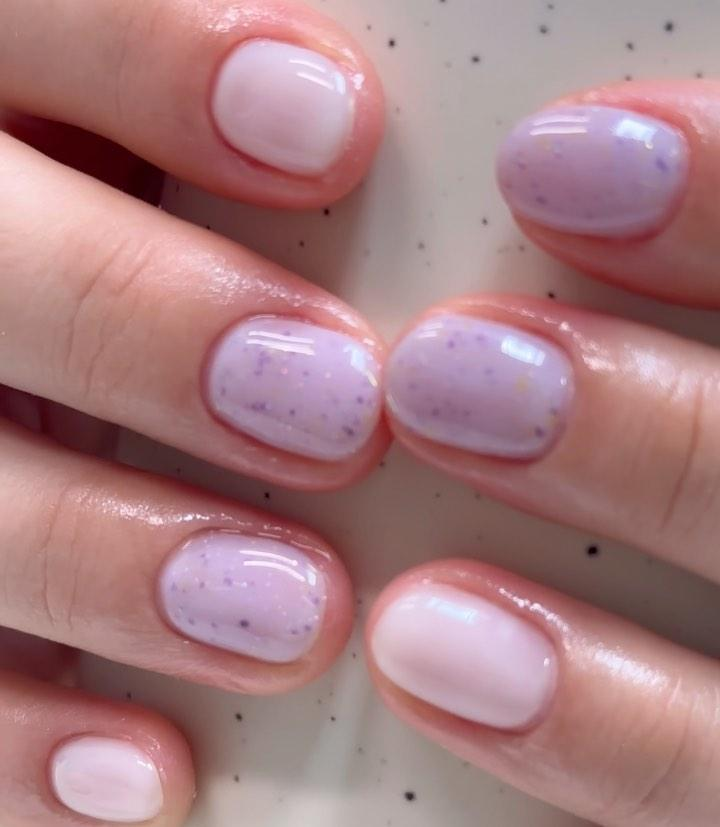nail: (383, 290, 718, 583), (363, 555, 719, 825), (494, 75, 718, 309), (0, 668, 197, 825), (369, 577, 561, 734), (384, 308, 575, 462), (198, 310, 385, 463), (153, 524, 329, 665), (45, 729, 164, 823)
